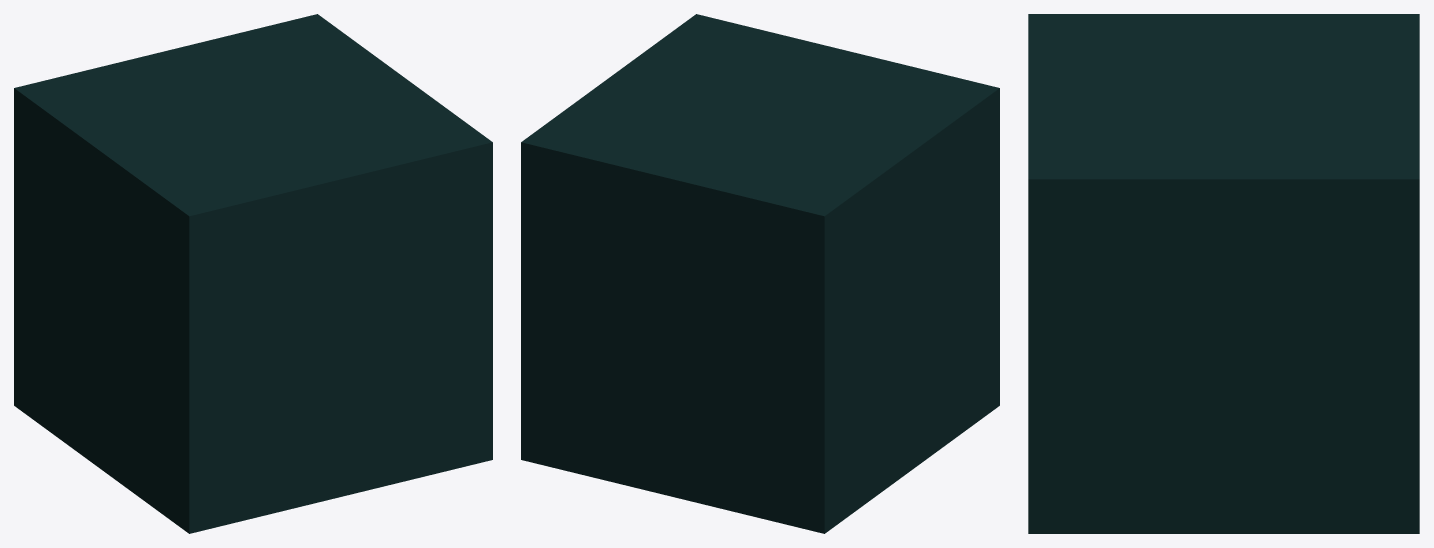
Rendered from ReflectiveConcreteRoom.obj.
The picture shows the model from 3 angles, left to right: view 1: azimuth 30°, elevation 25°; view 2: azimuth 150°, elevation 25°; view 3: azimuth 270°, elevation 25°; orthographic projection. The views are drawn at different scales.
Visible parts, largest first — view 1: Cube_Cube.001; view 2: Cube_Cube.001; view 3: Cube_Cube.001.
Part boxes in pixels (x1,y1,x2,y2): Cube_Cube.001: [14, 14, 492, 533]; Cube_Cube.001: [521, 14, 999, 533]; Cube_Cube.001: [1028, 14, 1419, 533].
Bounding box in the file's own units: 16.91 × 16.91 × 16.91.
